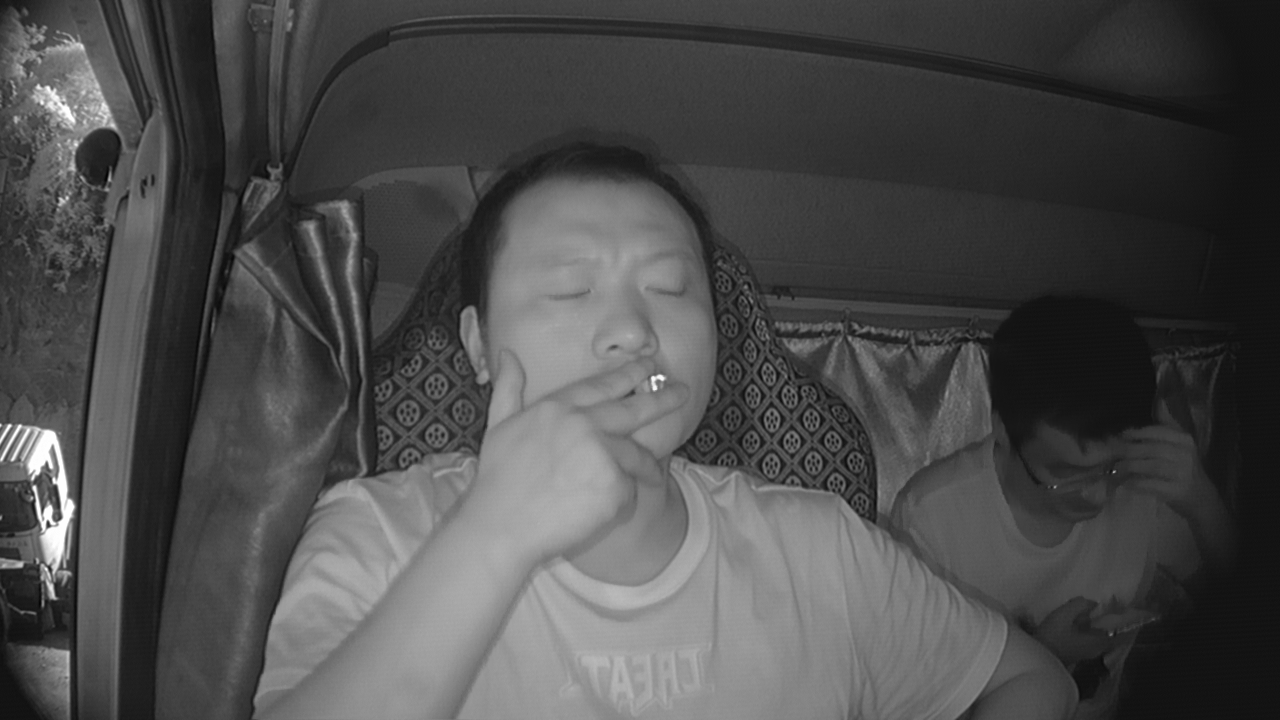hand: (537, 354, 673, 524)
